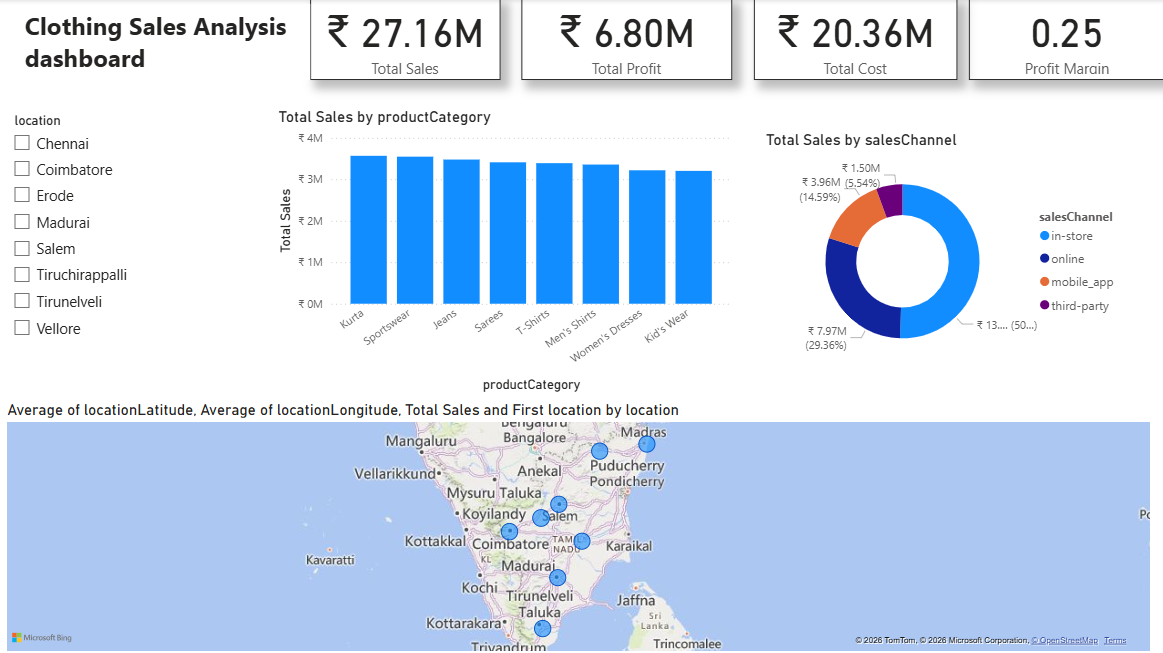

What the dashboard file says about the page in this screenshot:
{"tool":"powerbi","page":{"name":"Page 1","canvas":[1280,720],"ordinal":0},"visuals":[{"type":"card","fields":{"Values":["sales_data_updated.Total Sales"]},"box":[341.4,0,208.6,88.6],"z":0},{"type":"card","fields":{"Values":["sales_data_updated.Profit Margin"]},"box":[1064.3,0,216,88.6],"z":1000},{"type":"card","fields":{"Values":["sales_data_updated.Total Cost"]},"box":[829,0,222.9,88.6],"z":2000},{"type":"card","fields":{"Values":["sales_data_updated.Total Profit"]},"box":[573.8,0,231.4,88.6],"z":3000},{"type":"columnChart","fields":{"Category":["sales_data_updated.productCategory"],"Y":["sales_data_updated.Total Sales"]},"box":[301.4,120,507.1,317.1],"z":4000},{"type":"donutChart","fields":{"Category":["sales_data_updated.salesChannel"],"Y":["sales_data_updated.Total Sales"]},"box":[837.1,144.1,408.9,269],"z":5000},{"type":"slicer","fields":{"Values":["sales_data_updated.location"]},"box":[4.3,120,265.7,310],"z":6000},{"type":"textbox","box":[22.9,5.7,318.6,82.9],"z":7000},{"type":"map","fields":{"Y":["Avg(sales_data_updated.locationLatitude)"],"X":["Avg(sales_data_updated.locationLongitude)"],"Size":["sales_data_updated.Total Sales"],"Category":["sales_data_updated.location"]},"box":[4.1,440.5,1263.8,279.9],"z":8000}]}

Visuals, with their boxes in screenshot pixels (x1, y1, x2, y2), scaled from the page's 1280x720 canvas onto the 1163x653 screenshot:
card - sales_data_updated.Total Sales: Rect(310, 0, 500, 80)
card - sales_data_updated.Profit Margin: Rect(967, 0, 1162, 80)
card - sales_data_updated.Total Cost: Rect(753, 0, 956, 80)
card - sales_data_updated.Total Profit: Rect(521, 0, 732, 80)
columnChart - sales_data_updated.productCategory x sales_data_updated.Total Sales: Rect(274, 109, 735, 396)
donutChart - sales_data_updated.salesChannel x sales_data_updated.Total Sales: Rect(761, 131, 1132, 375)
slicer - sales_data_updated.location: Rect(4, 109, 245, 390)
textbox: Rect(21, 5, 310, 80)
map - Avg(sales_data_updated.locationLatitude) x Avg(sales_data_updated.locationLongitude): Rect(4, 400, 1152, 652)
